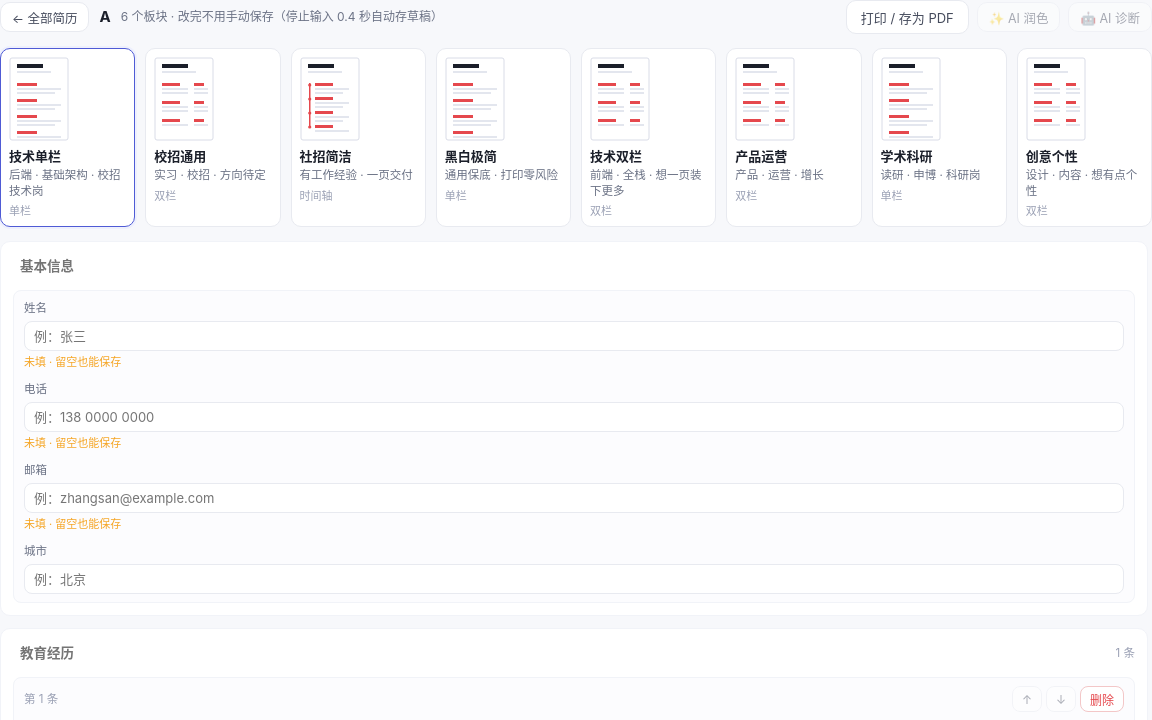
ResumeView（jsdom） › ★ 打印入口挂在工具条上，且点开有提示层（PRD §9-4）
Click the button "打印 / 存为 PDF". click: (907, 17)
box: left=846, top=0, right=969, bottom=34
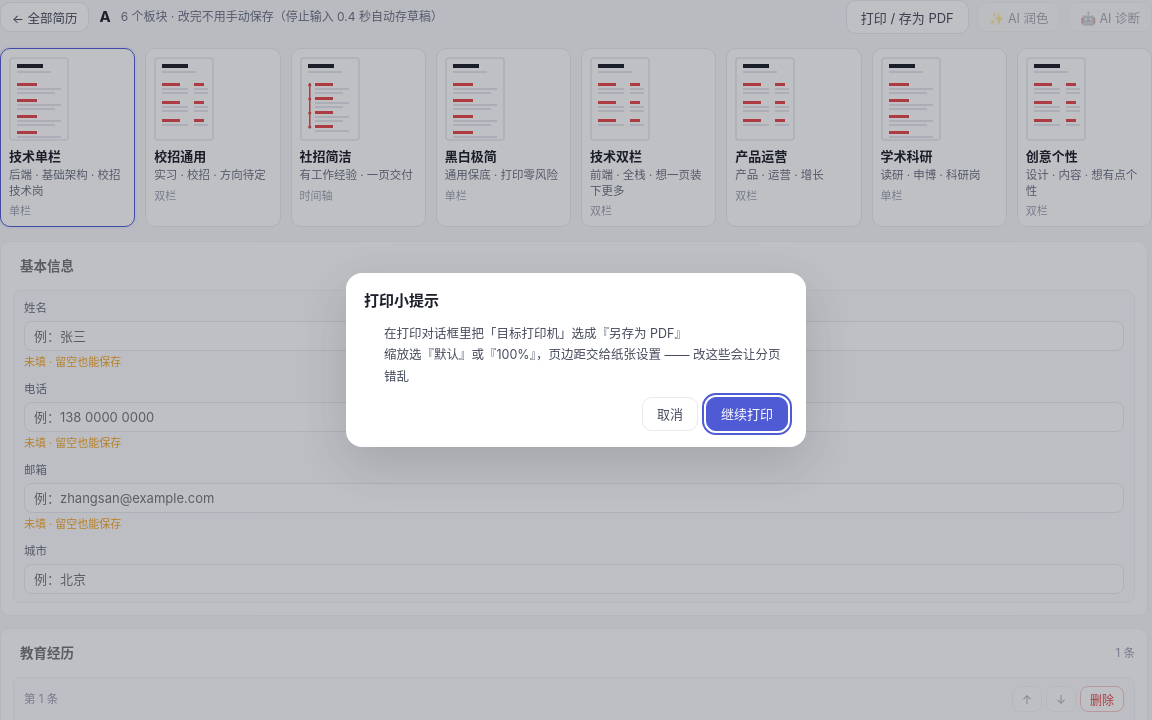
Check: the dialog is shown, box left=346, top=273, right=806, bottom=447
